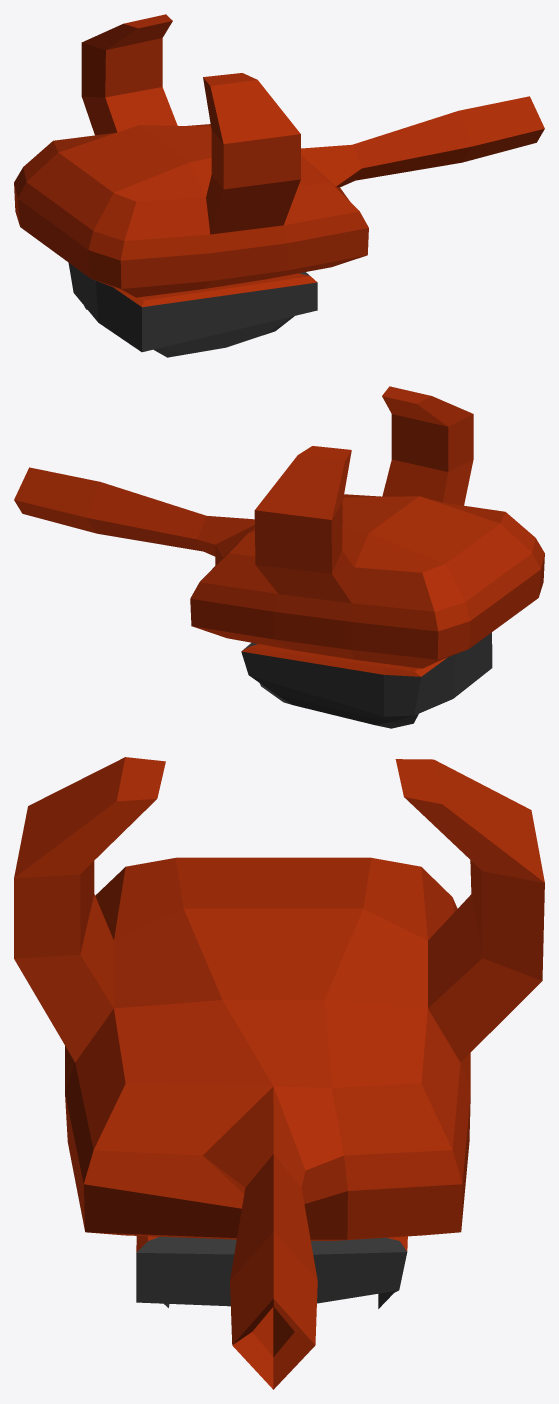
Rendered from MS_EnemyTank.fbx.
3 views of the same model, one above another, from view 1: azimuth 30°, elevation 25°; view 2: azimuth 150°, elevation 25°; view 3: azimuth 270°, elevation 25° (orthographic). The views are drawn at different scales.
Visible parts, largest first — view 1: pCube1; view 2: pCube1; view 3: pCube1.
Boxes of the visible parts, x1,y1,x2,y2 form: pCube1: (14,14,544,357); pCube1: (14,386,544,728); pCube1: (14,757,544,1389).
Bounding box in the file's own units: 26.53 × 14.55 × 14.22.
